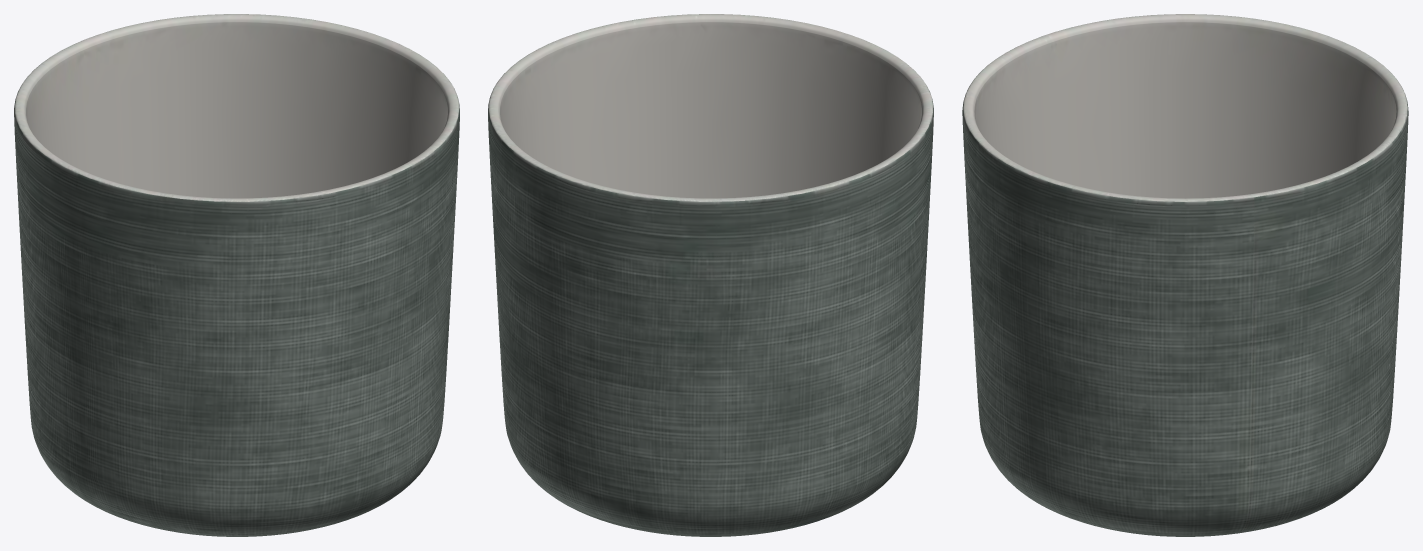
The model's file is abo-B07QHKV3ZP.glb.
3 views of the same model, side by side, from view 1: azimuth 30°, elevation 25°; view 2: azimuth 150°, elevation 25°; view 3: azimuth 270°, elevation 25° (orthographic).
Size of the model in its own units: 0.44 by 0.398 by 0.44.
1 material, 1 textured.
